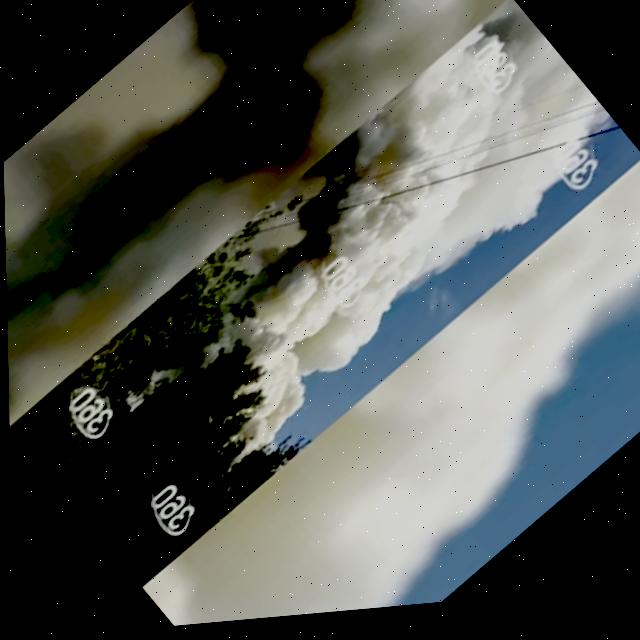Smoke: (133, 0, 632, 468)
